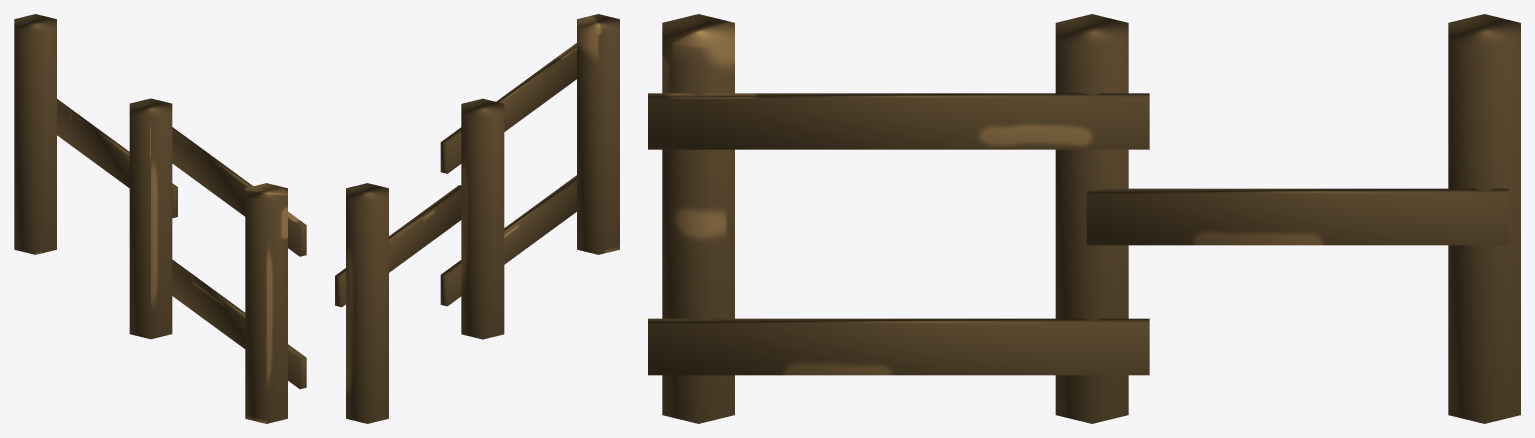
The model's file is pager.fbx.
The picture shows the model from 3 angles, left to right: view 1: azimuth 30°, elevation 25°; view 2: azimuth 150°, elevation 25°; view 3: azimuth 270°, elevation 25°; orthographic projection. The views are drawn at different scales.
Visible parts, largest first — view 1: pager.001; view 2: pager.001; view 3: pager.001.
Part boxes in pixels (x1,y1,x2,y2): pager.001: [14, 14, 306, 423]; pager.001: [335, 14, 619, 423]; pager.001: [648, 14, 1520, 423].
Bounding box in the file's own units: 70.11 × 315 × 666.
